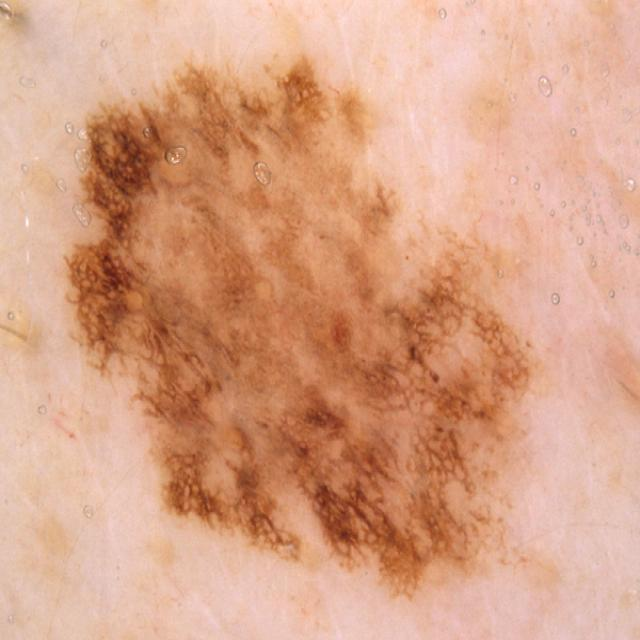NV: (60, 47, 549, 600)
